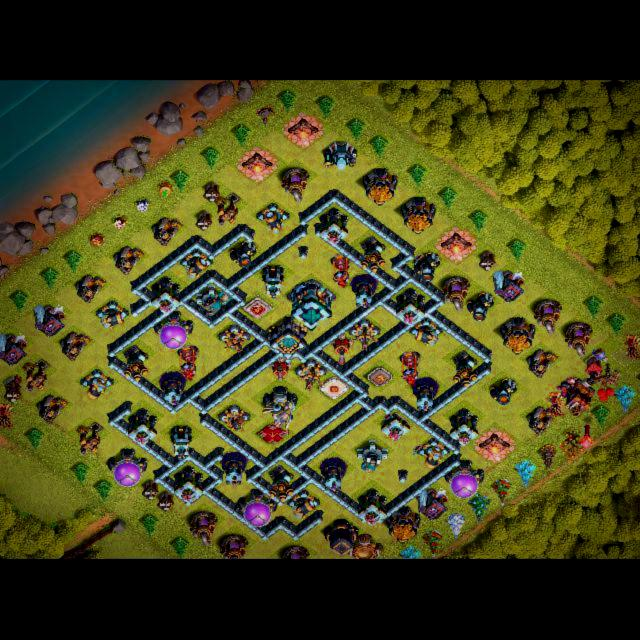AD: (360, 237, 386, 275), (268, 466, 294, 504), (452, 352, 478, 390), (122, 346, 148, 384)
AirSweeper: (330, 334, 354, 366), (268, 357, 292, 382)
BombTower: (262, 265, 283, 300), (171, 426, 192, 461)
Canon: (256, 203, 290, 234), (417, 440, 450, 470), (80, 371, 113, 401), (96, 301, 129, 330), (180, 250, 213, 279), (287, 491, 320, 520), (409, 319, 443, 347)
ClanCastle: (270, 317, 307, 361)
Eagle: (261, 386, 297, 431)
Inferno: (400, 352, 421, 386), (178, 347, 199, 381), (330, 255, 351, 288)
KingPad: (244, 299, 273, 320)
Mortar: (466, 292, 495, 323), (412, 251, 441, 282), (228, 241, 257, 269), (489, 378, 518, 406)
QueenPad: (258, 423, 289, 446)
RcPad: (368, 369, 393, 387)
Scattershot: (195, 286, 231, 318), (357, 441, 388, 475)
TH13: (290, 281, 332, 333)
WardenPad: (321, 380, 348, 400)
WizzTower: (352, 276, 377, 310), (321, 459, 346, 493), (221, 453, 246, 487), (413, 378, 438, 411), (160, 373, 185, 406)
Xbow: (294, 359, 327, 392), (348, 319, 381, 352), (218, 324, 251, 353), (218, 405, 251, 432)
